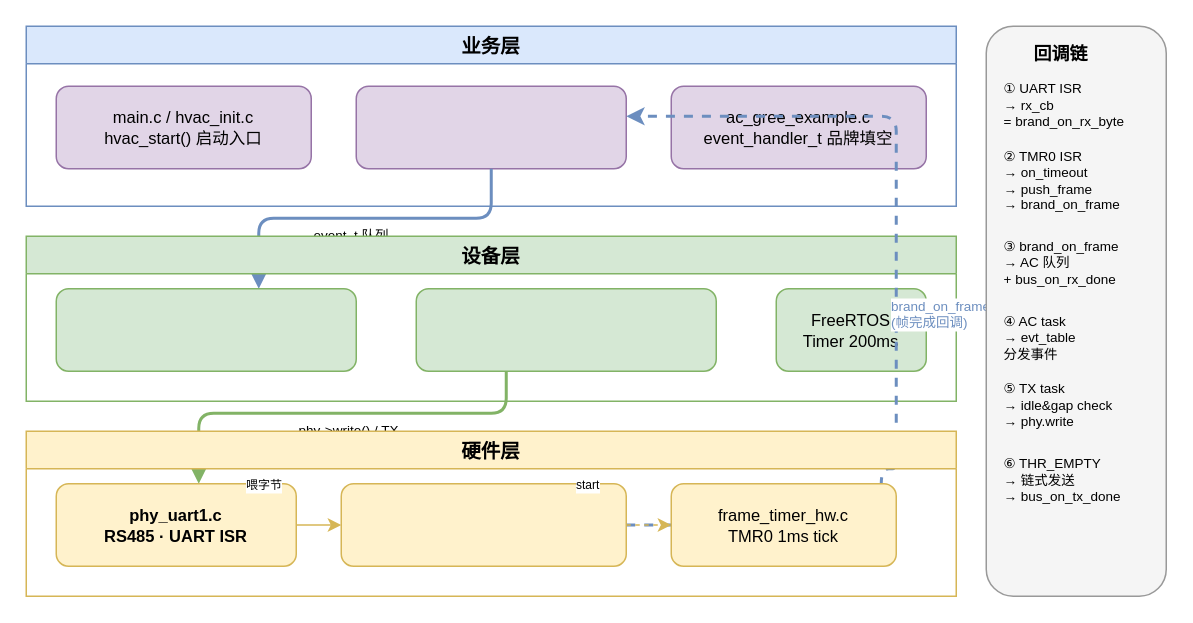
The diagram is 1193 pixels wide and 623 high, and some of its shapes have lost their labels. The shapes that lost their labels are listed below. From the top down, each one's centre as x and y in pixels, then its label:
At point 490,127: "brand_manager.c 扫描 · 匹配 · 锁定 rx_cb 入口 / frame 回调".
At point 205,329: "ac_device_t 事件循环 + 5事件虚表分发".
At point 565,329: "bus_controller_t idle + gap_until + TX队列".
At point 483,524: "packetizer_timeout.c ring buffer · 5ms超时封包".
